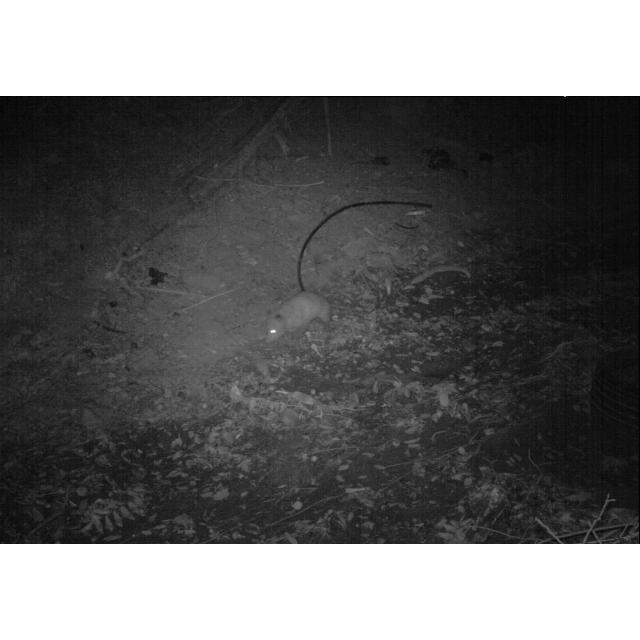animals: (264, 288, 364, 344)
